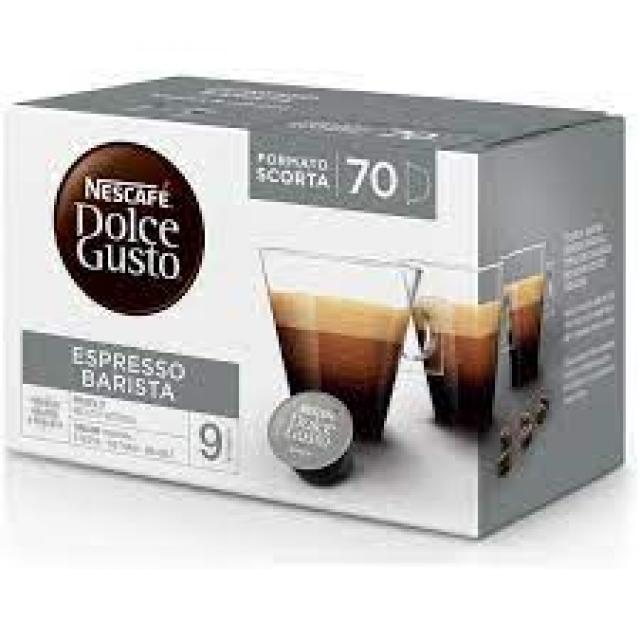Coffee: (14, 77, 623, 543)
